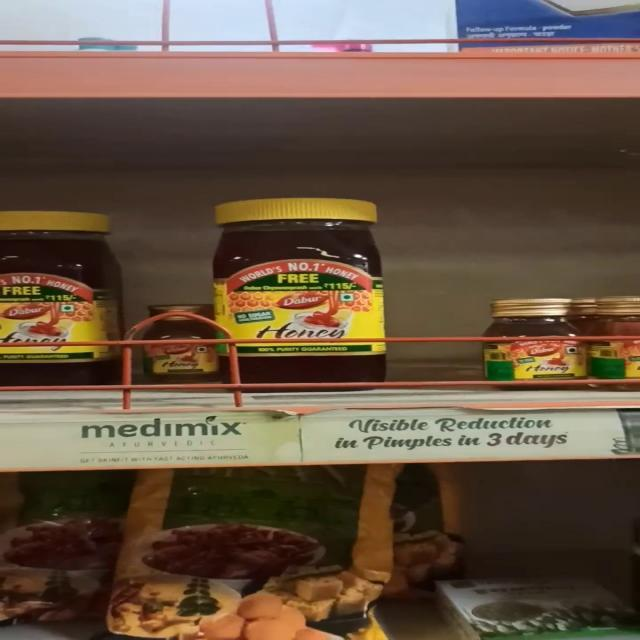Dabur Honey: (207, 196, 394, 392), (0, 208, 121, 392), (480, 295, 587, 392)
